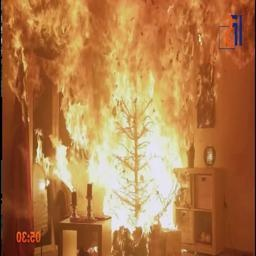fire: (20, 0, 255, 230)
